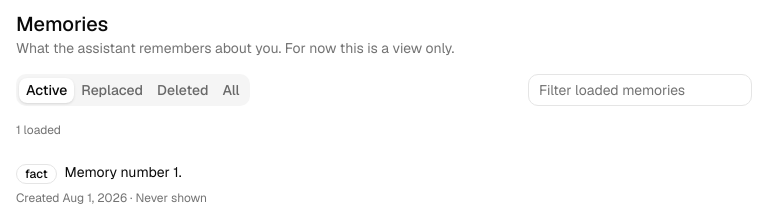
the tabs › going back to a tab shows what it had without asking again
Expected: the text "Memory number 1." is shown, 65,163 -> 182,181
Click the tab "Replaced" at (112, 90), box 74,78 -> 150,102
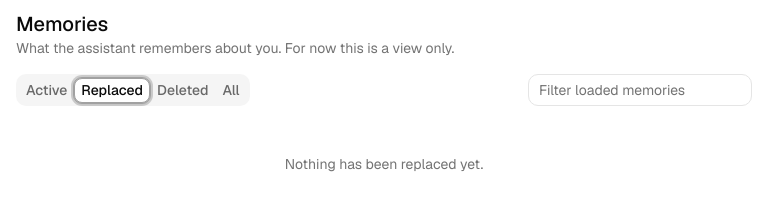
Expected: the text "Nothing has been replaced yet." is shown, 285,155 -> 483,173
Click the tab "Active" at (47, 90), box 19,78 -> 74,102
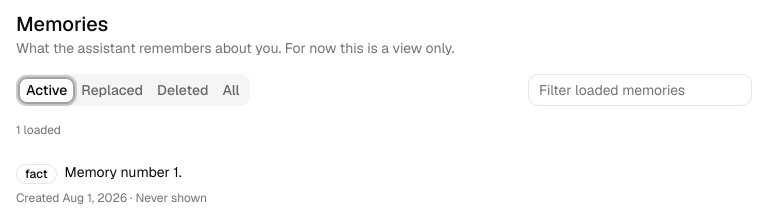
Expected: the text "Memory number 1." is shown, 65,163 -> 182,181
